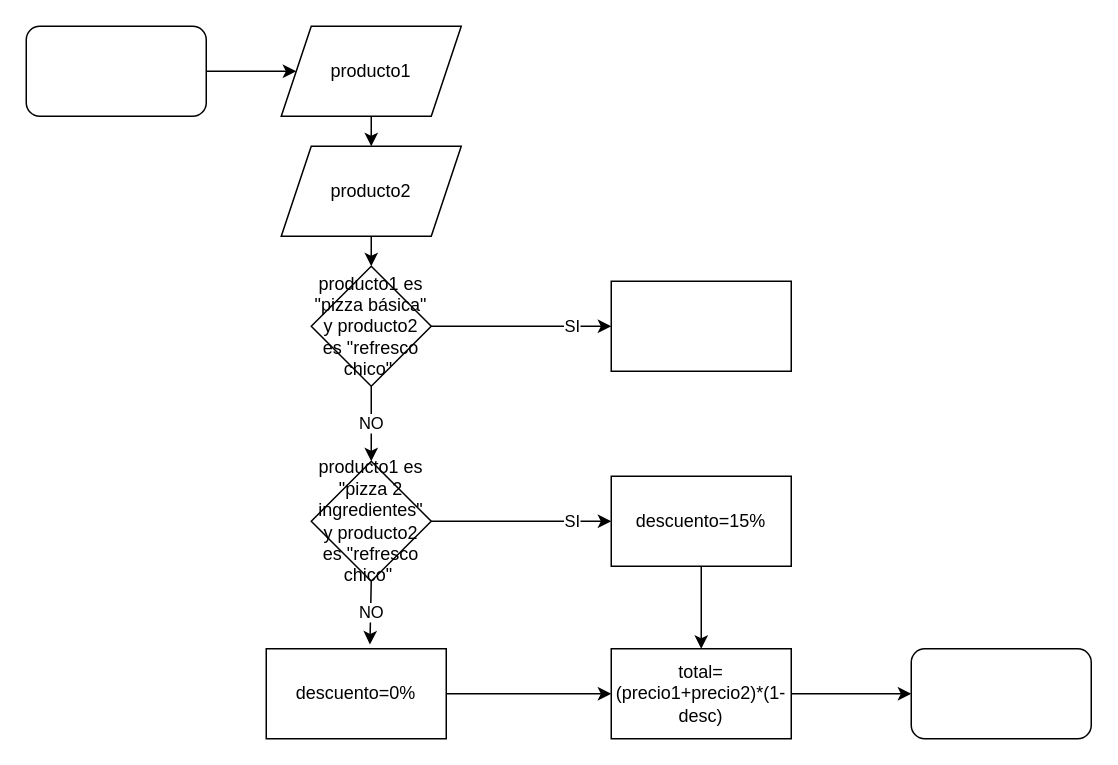
This 1118x765 diagram has some shape labels left out. The shapes that lost their labels are listed below. From the top down, each one's centre as x and y in pixels, then its label:
At pixel 115 70: "INICIO".
At pixel 700 325: "descuento=10%".
At pixel 1000 693: "FIN".
